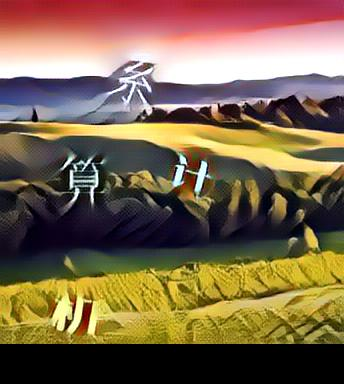hanzi: (52, 148, 111, 219), (104, 50, 162, 118), (47, 287, 109, 337), (167, 146, 215, 200)
